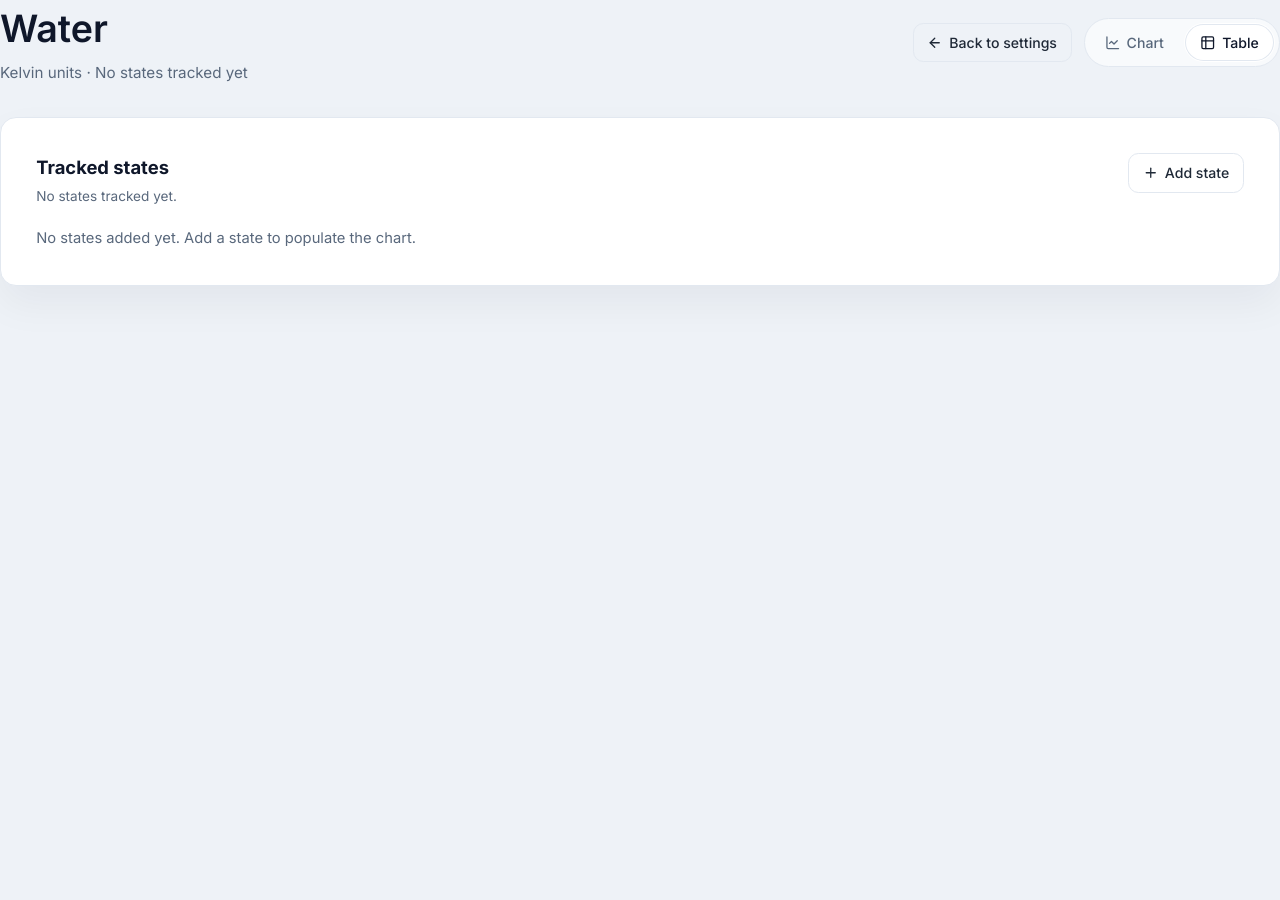
WorkspaceView › add state › opens the state modal when 'Add state' is clicked
Click the button "Add state": (1186, 173) [1128,153,1244,193]
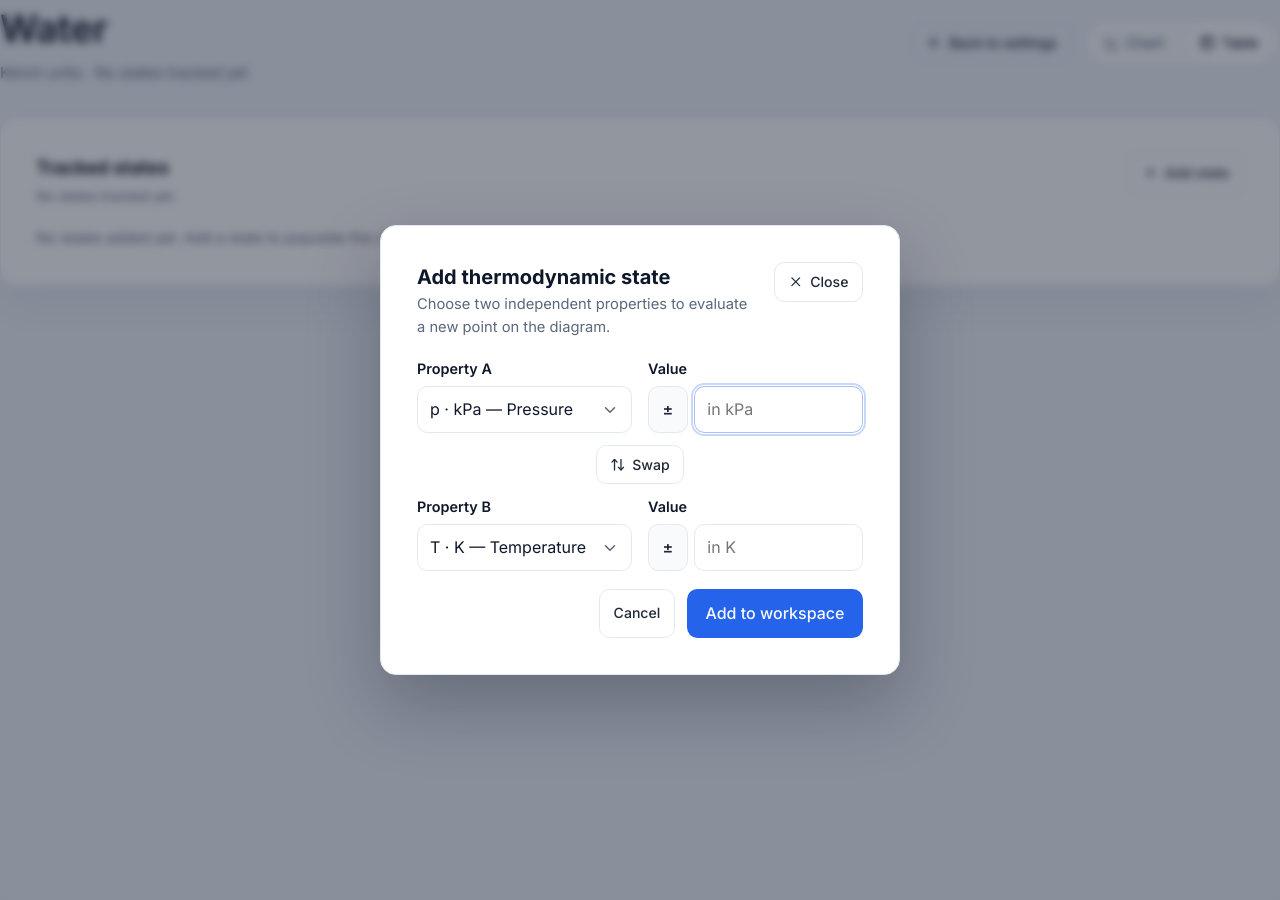
Expected: the heading "Add thermodynamic state" is shown, [417,265,670,289]
